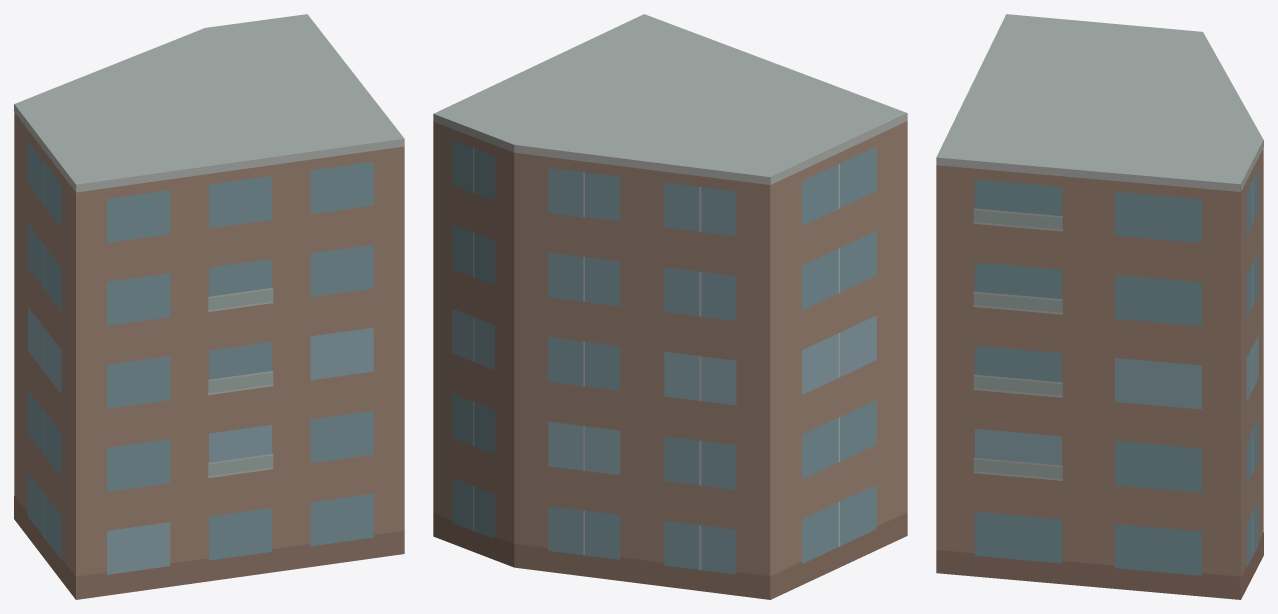
File: survey-upis-32649402.glb
The picture shows the model from 3 angles, left to right: view 1: azimuth 30°, elevation 25°; view 2: azimuth 150°, elevation 25°; view 3: azimuth 270°, elevation 25°; orthographic projection.
Parts seen in each view (by area): view 1: survey-upis-32649402.tmp; view 2: survey-upis-32649402.tmp; view 3: survey-upis-32649402.tmp.
Part boxes in pixels (x1,y1,x2,y2): survey-upis-32649402.tmp: (14, 14, 404, 599); survey-upis-32649402.tmp: (433, 14, 907, 599); survey-upis-32649402.tmp: (936, 14, 1263, 599).
Size of the model in its own units: 11.52 by 13.1 by 9.37.
